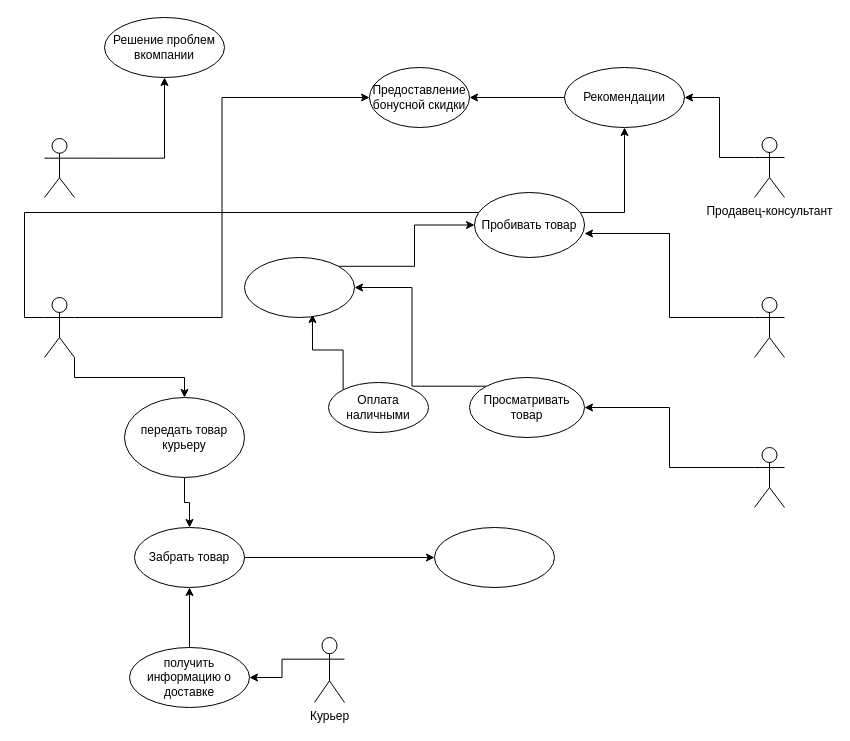
The diagram is 850 pixels wide and 741 high, and some of its shapes have lost their labels. The centre of each missing label's shape, as x and y in pixels:
"Директор" goes at point (59, 168).
"доставить товар по адресу" goes at point (494, 557).
"Кассир" goes at point (769, 327).
"Менеджер" goes at point (59, 327).
"Оплата выбранного товара" goes at point (299, 287).
"Покупатель" goes at point (769, 477).
